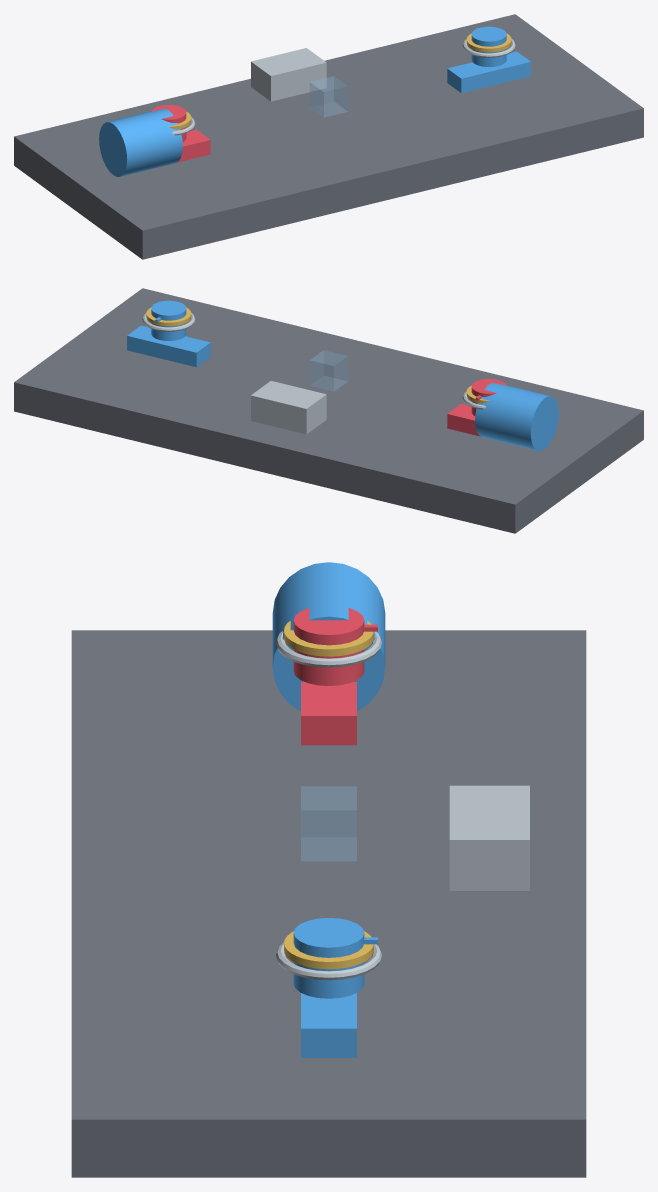
Rendered from bell_bench.glb.
3 views of the same model, one above another, from view 1: azimuth 30°, elevation 25°; view 2: azimuth 150°, elevation 25°; view 3: azimuth 270°, elevation 25° (orthographic). The views are drawn at different scales.
Visible parts, largest first — view 1: optical-table, pump-laser, arm-b, coincidence-counter, bbo-crystal, arm-a, polarizer-dial-b; view 2: optical-table, pump-laser, arm-b, coincidence-counter, bbo-crystal, arm-a, polarizer-dial-b; view 3: optical-table, coincidence-counter, arm-b, pump-laser, arm-a, bbo-crystal, polarizer-dial-b, polarizer-dial-a.
Boxes of the visible parts, x1,y1,x2,y2 form: optical-table: (14,14,643,259); pump-laser: (99,108,182,176); arm-b: (447,26,530,93); coincidence-counter: (251,48,326,101); bbo-crystal: (310,76,347,117); arm-a: (151,105,210,162); polarizer-dial-b: (466,28,511,52); optical-table: (14,288,643,533); pump-laser: (475,382,558,450); arm-b: (127,300,210,367); coincidence-counter: (251,381,326,434); bbo-crystal: (310,350,347,391); arm-a: (447,379,506,436); polarizer-dial-b: (146,307,191,326); optical-table: (71,630,586,1177); coincidence-counter: (449,785,529,890); arm-b: (276,918,381,1057); pump-laser: (272,562,385,711); arm-a: (276,608,381,745); bbo-crystal: (301,786,356,860); polarizer-dial-b: (284,931,377,969); polarizer-dial-a: (284,621,377,656).
Bounding box in the file's own units: 0.72 × 0.11 × 0.32.
